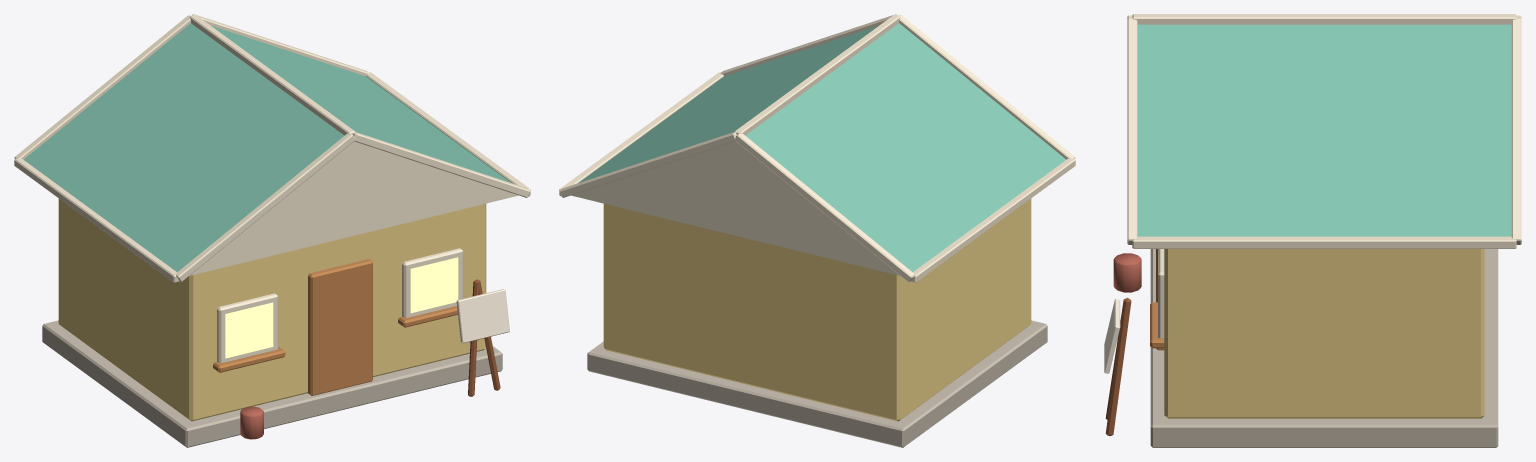
3 renders of one model, left to right at view 1: azimuth 30°, elevation 25°; view 2: azimuth 150°, elevation 25°; view 3: azimuth 270°, elevation 25°, orthographic. The views are drawn at different scales.
Parts seen in each view (by area): view 1: Studio_Roof, Walls, ivory_trim, Plinth, warm_cedar, amber_glow, Canvas, toasted_wood, Brush_Jar; view 2: Studio_Roof, Walls, ivory_trim, Plinth; view 3: Studio_Roof, Walls, ivory_trim, Plinth, toasted_wood, Brush_Jar, Canvas, warm_cedar.
Boxes of the visible parts, <box> form: Studio_Roof: <box>23,23,518,275</box>; Walls: <box>58,198,486,421</box>; ivory_trim: <box>14,14,530,363</box>; Plinth: <box>42,320,502,447</box>; warm_cedar: <box>213,259,457,395</box>; amber_glow: <box>225,257,458,358</box>; Canvas: <box>456,289,509,343</box>; toasted_wood: <box>468,279,500,396</box>; Brush_Jar: <box>240,406,263,439</box>; Studio_Roof: <box>571,23,1066,275</box>; Walls: <box>603,198,1031,421</box>; ivory_trim: <box>559,14,1075,282</box>; Plinth: <box>587,320,1047,447</box>; Studio_Roof: <box>1137,24,1511,236</box>; Walls: <box>1164,249,1484,418</box>; ivory_trim: <box>1127,14,1521,338</box>; Plinth: <box>1150,249,1498,447</box>; toasted_wood: <box>1105,297,1131,435</box>; Brush_Jar: <box>1113,253,1141,292</box>; Canvas: <box>1104,299,1120,373</box>; warm_cedar: <box>1150,249,1164,350</box>.
Size of the model in its own units: 5.41 by 4.11 by 4.56.
